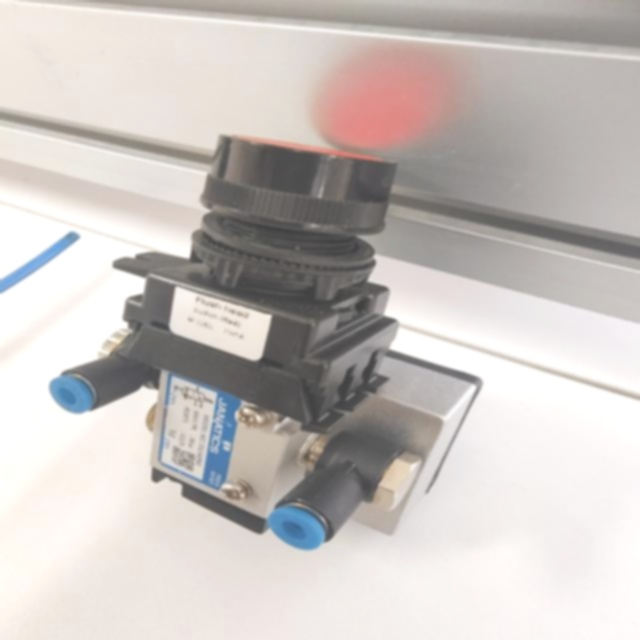push button: (48, 133, 482, 550)
